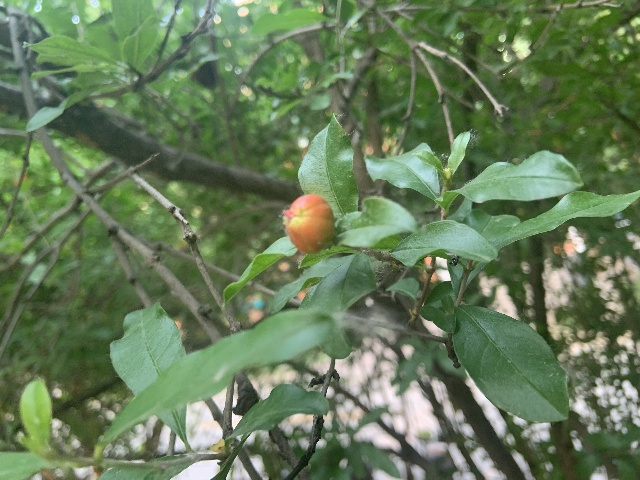bud: (283, 194, 335, 254)
